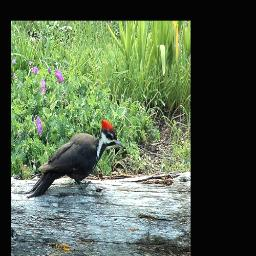Woodpecker: (27, 119, 125, 196)
